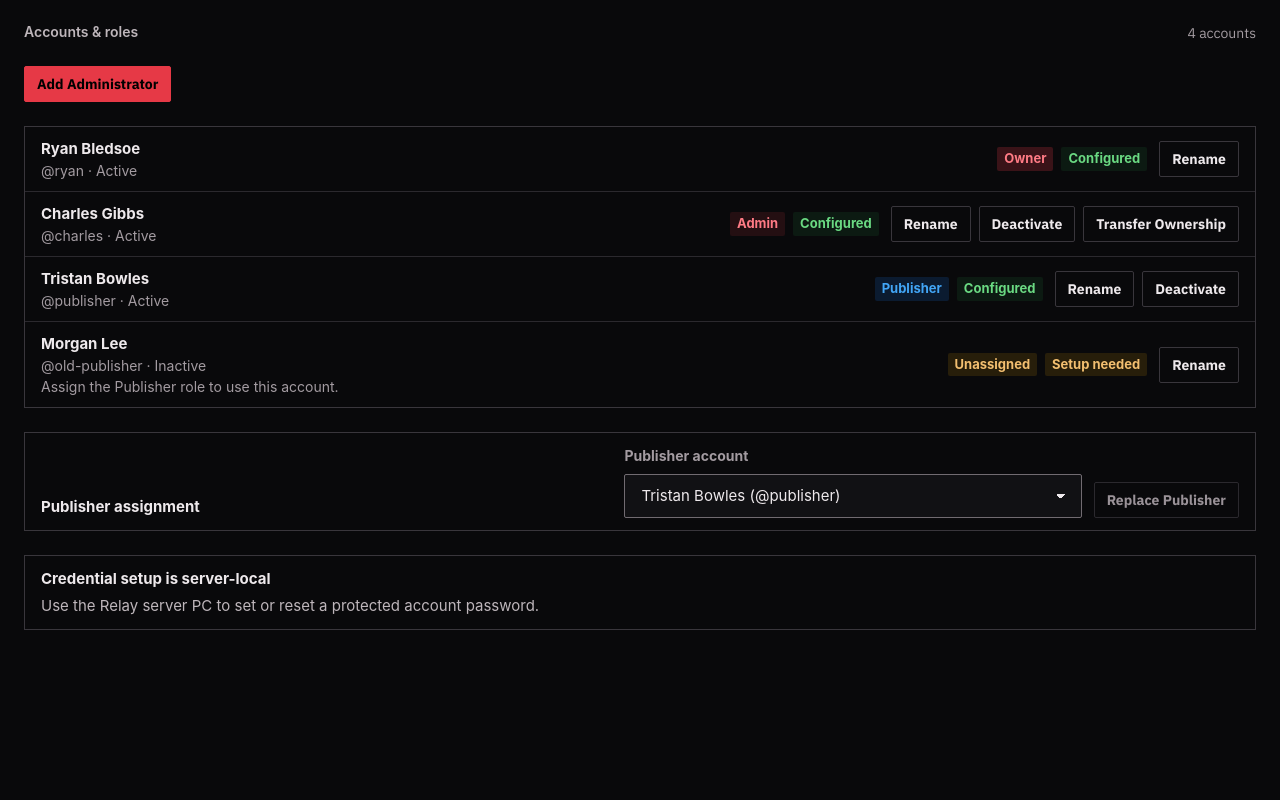
RoleAccountsPanel › identifies both accounts in the ownership transfer warning
Click the button with aria-label "Transfer Ownership to Charles Gibbs" at (1161, 224), box [1083,206,1239,242]
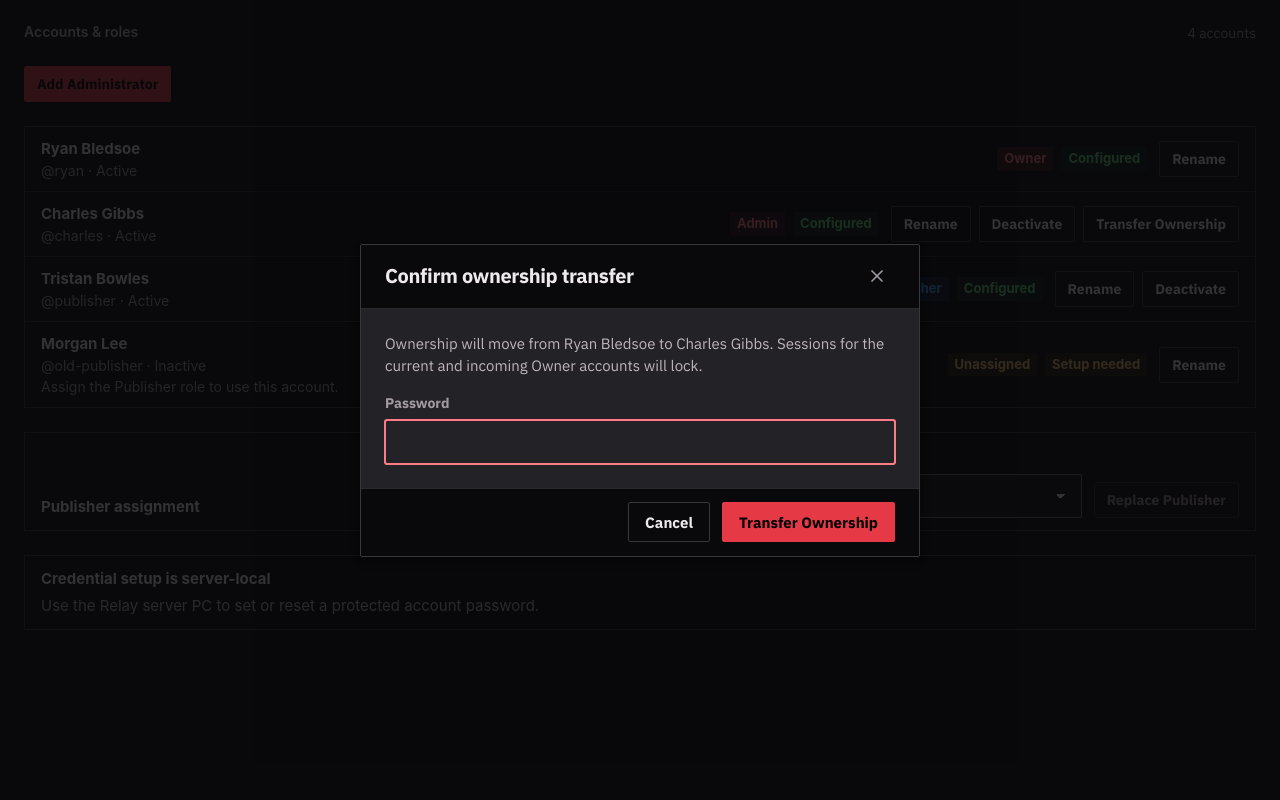
Check: the dialog shows "ownership will move from Ryan Bledsoe to Charles Gibbs", box [385,334,884,375]
